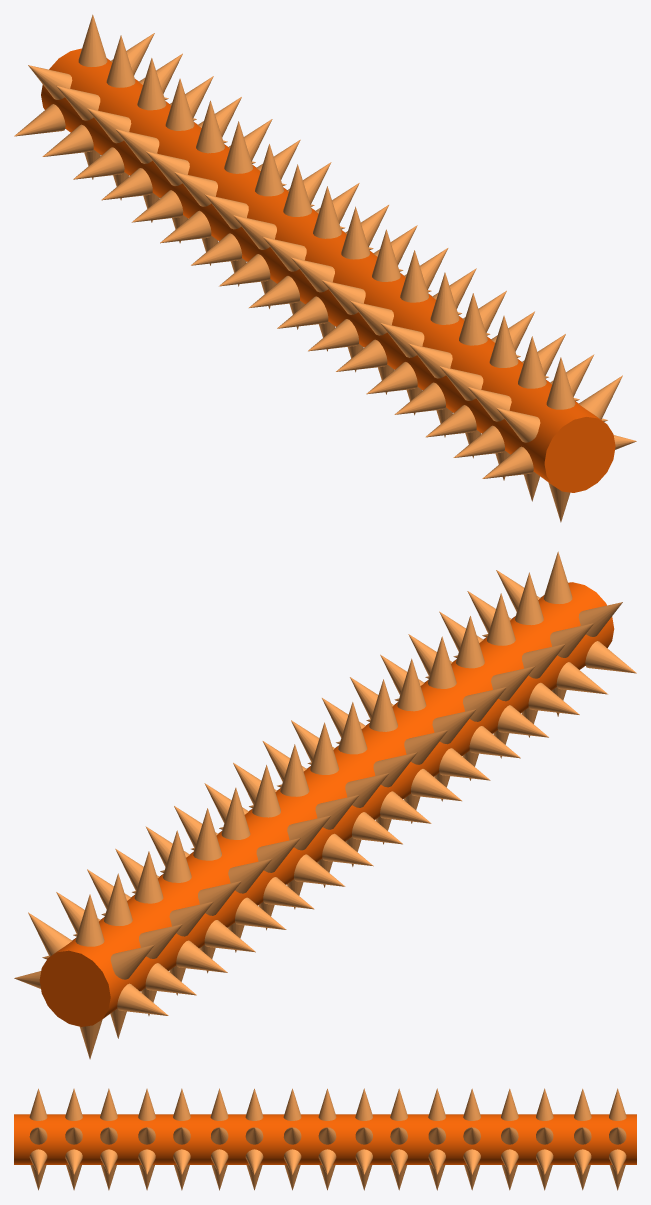
Rendered from gold_supressor.fbx.
3 renders of one model, top to bottom at view 1: azimuth 30°, elevation 25°; view 2: azimuth 150°, elevation 25°; view 3: azimuth 270°, elevation 25°, orthographic. The views are drawn at different scales.
Visible parts, largest first — view 1: Object002; view 2: Object002; view 3: Object002.
Part boxes in pixels (bbox=[...]): Object002: bbox=[14, 14, 636, 522]; Object002: bbox=[14, 551, 636, 1059]; Object002: bbox=[14, 1088, 636, 1190].
Size of the model in its own units: 23.62 by 24.12 by 133.
